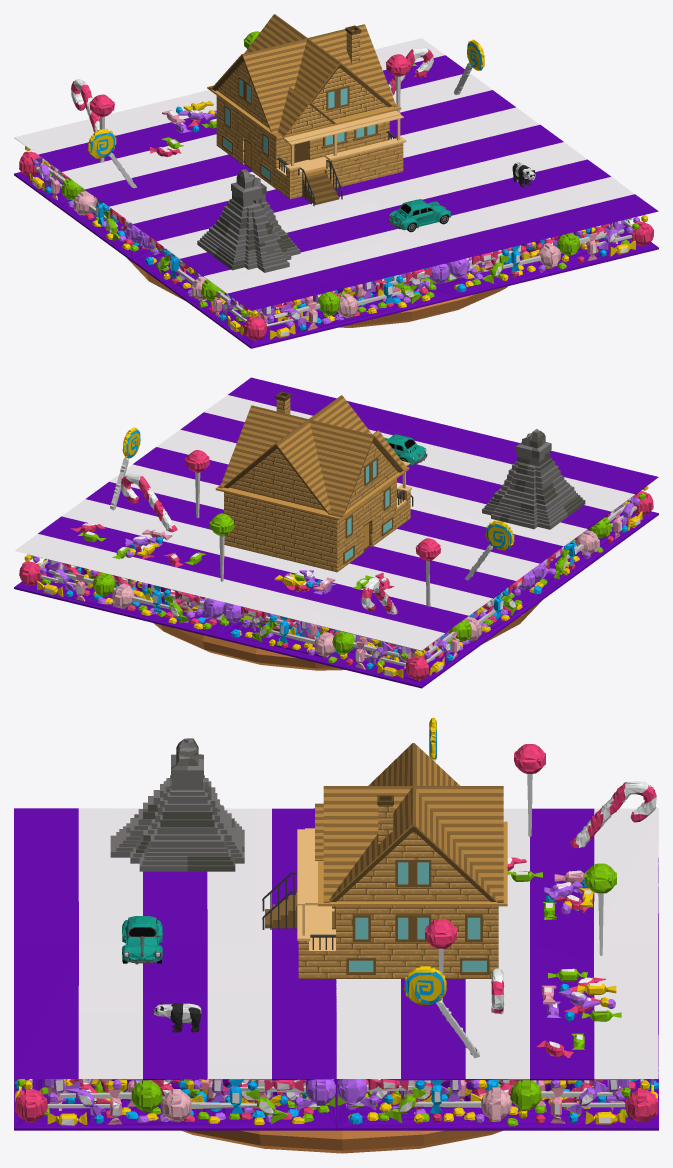
3 views of the same model, one above another, from view 1: azimuth 30°, elevation 25°; view 2: azimuth 150°, elevation 25°; view 3: azimuth 270°, elevation 25° (orthographic). The views are drawn at different scales.
Visible parts, largest first — view 1: TERRAIN_CANDY, Cube.508, OBJRANDOM_GRAN_JAGUAR, UNDERGROUND_PIZZA, VEHICLES_VOLKSWAGEN; view 2: TERRAIN_CANDY, Cube.508, OBJRANDOM_GRAN_JAGUAR, UNDERGROUND_PIZZA, VEHICLES_VOLKSWAGEN; view 3: TERRAIN_CANDY, Cube.508, OBJRANDOM_GRAN_JAGUAR, UNDERGROUND_PIZZA, VEHICLES_VOLKSWAGEN, ANIMAL_PANDA.
Boxes of the visible parts, x1,y1,x2,y2 form: TERRAIN_CANDY: (14, 31, 658, 348); Cube.508: (207, 14, 406, 206); OBJRANDOM_GRAN_JAGUAR: (197, 169, 300, 272); UNDERGROUND_PIZZA: (127, 258, 507, 327); VEHICLES_VOLKSWAGEN: (388, 199, 451, 232); TERRAIN_CANDY: (14, 377, 658, 688); Cube.508: (215, 391, 413, 572); OBJRANDOM_GRAN_JAGUAR: (482, 429, 585, 529); UNDERGROUND_PIZZA: (153, 601, 541, 670); VEHICLES_VOLKSWAGEN: (384, 434, 427, 465); TERRAIN_CANDY: (14, 717, 658, 1130); Cube.508: (262, 743, 507, 978); OBJRANDOM_GRAN_JAGUAR: (110, 738, 244, 871); UNDERGROUND_PIZZA: (181, 1130, 502, 1153); VEHICLES_VOLKSWAGEN: (122, 916, 162, 964); ANIMAL_PANDA: (153, 1002, 201, 1032).
Size of the model in its own units: 4059 by 1796 by 4000.
28 materials, 3 textured.
